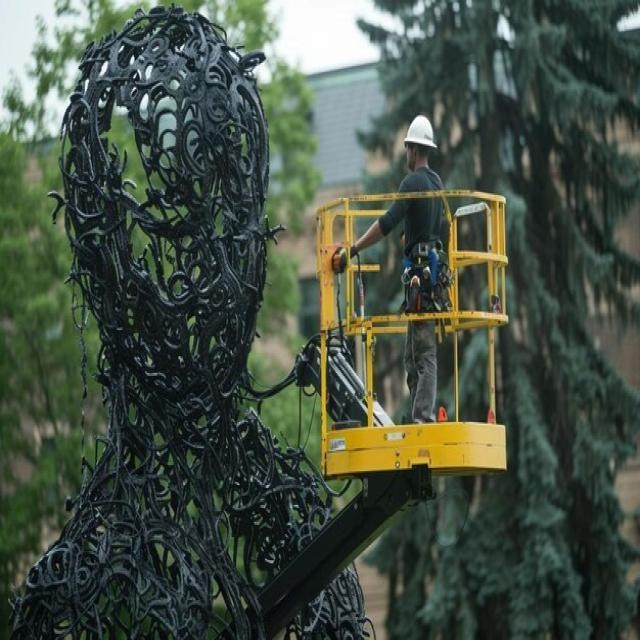Arnes_seguridad: (400, 243, 452, 313)
